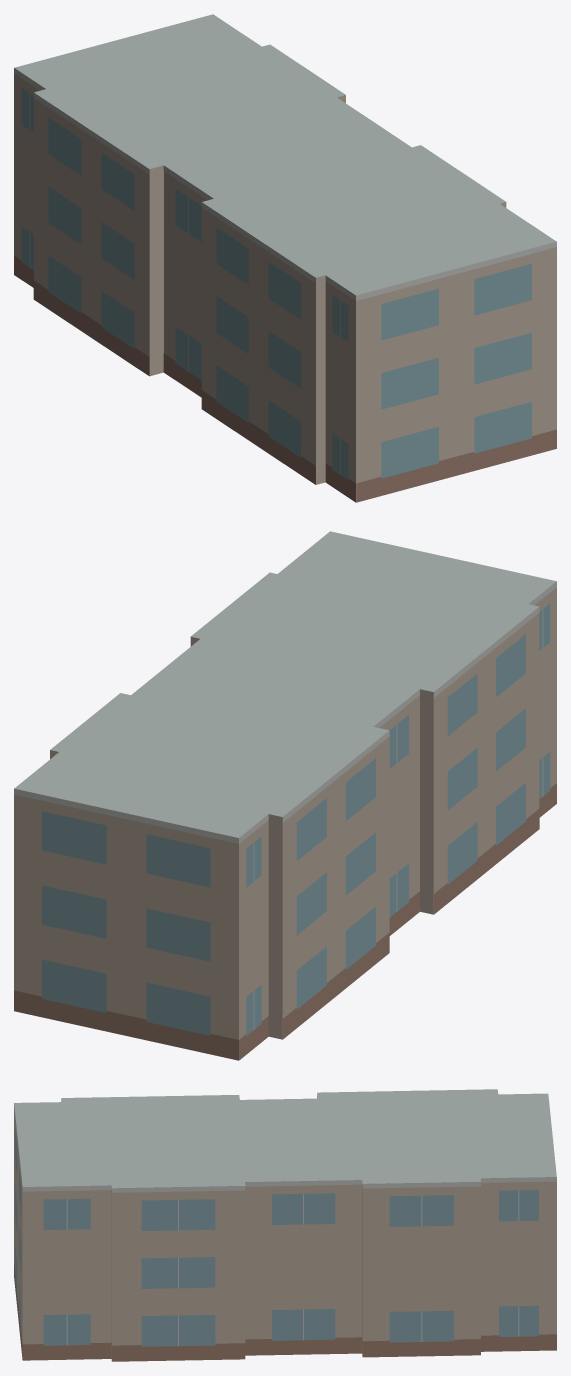
Rendered from survey-upis-32697773.glb.
3 views of the same model, one above another, from view 1: azimuth 30°, elevation 25°; view 2: azimuth 150°, elevation 25°; view 3: azimuth 270°, elevation 25° (orthographic). The views are drawn at different scales.
Parts seen in each view (by area): view 1: survey-upis-32697773.tmp; view 2: survey-upis-32697773.tmp; view 3: survey-upis-32697773.tmp.
Boxes of the visible parts, box(x1,y1,x2,y2) form: survey-upis-32697773.tmp: box(14, 14, 556, 502); survey-upis-32697773.tmp: box(14, 531, 556, 1060); survey-upis-32697773.tmp: box(14, 1089, 556, 1361).
Bounding box in the file's own units: 11.21 × 9.15 × 25.95.
